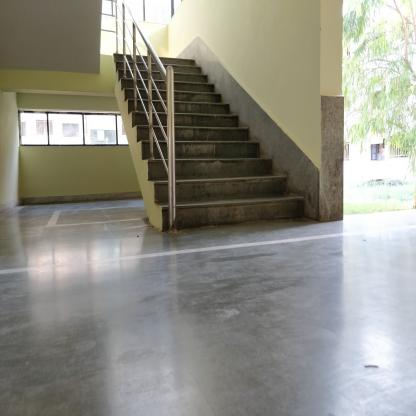stairs: (180, 102, 230, 234)
